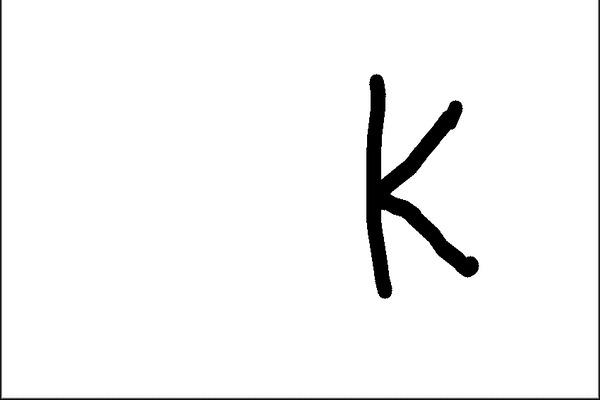K: (357, 66, 484, 303)
